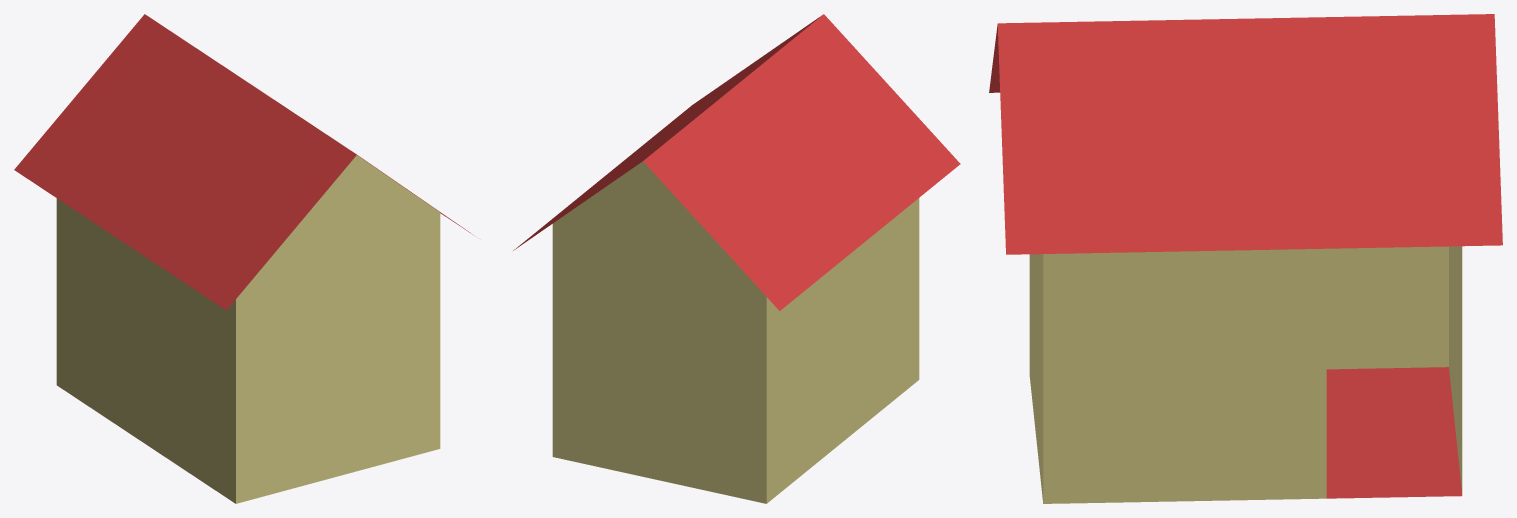
The picture shows the model from 3 angles, left to right: view 1: azimuth 30°, elevation 25°; view 2: azimuth 150°, elevation 25°; view 3: azimuth 270°, elevation 25°; orthographic projection. The views are drawn at different scales.
Size of the model in its own units: 10.42 by 13.21 by 11.87.
